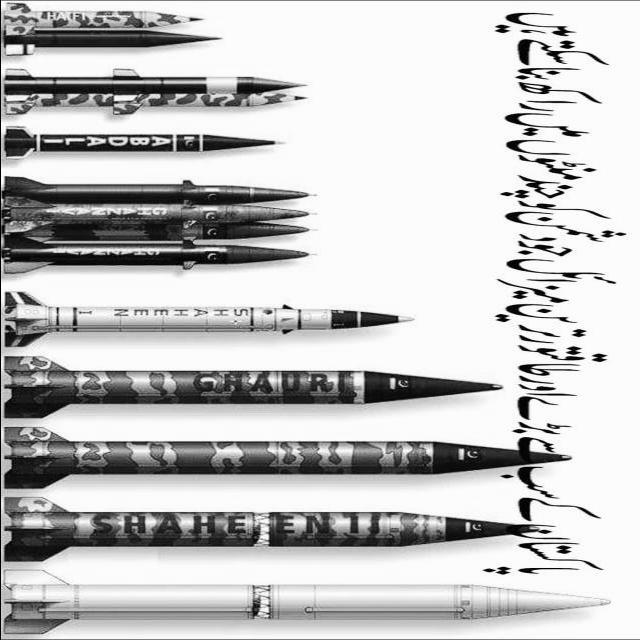missile: (0, 425, 571, 491)
